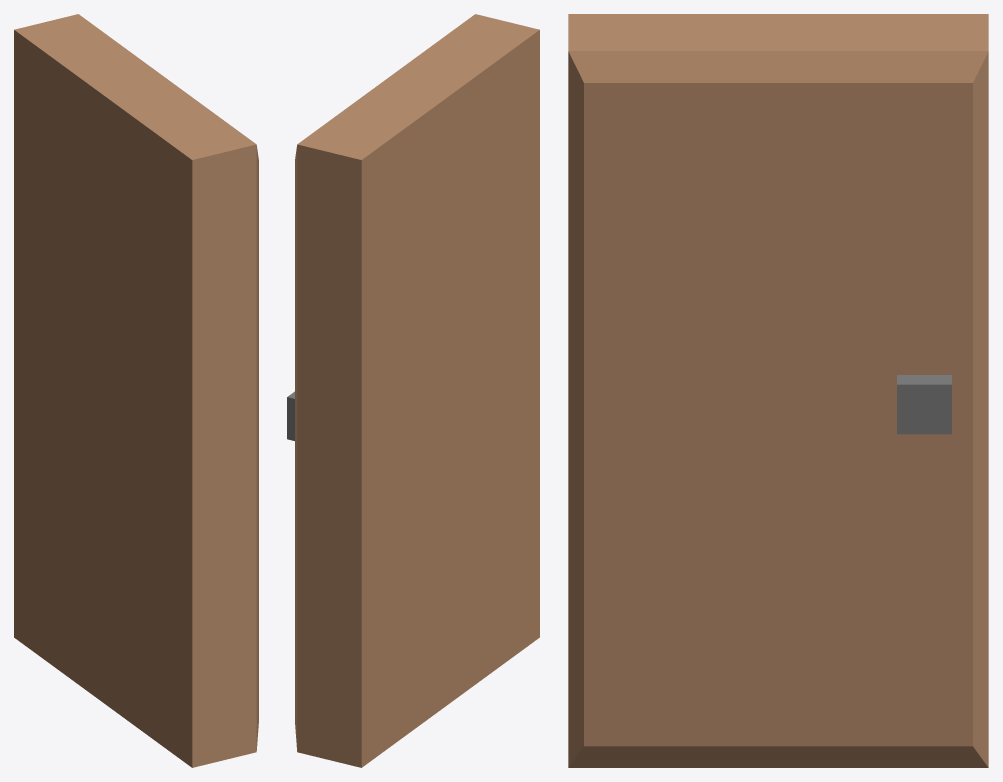
Rendered from door.fbx.
3 views of the same model, side by side, from view 1: azimuth 30°, elevation 25°; view 2: azimuth 150°, elevation 25°; view 3: azimuth 270°, elevation 25° (orthographic). The views are drawn at different scales.
Visible parts, largest first — view 1: Cube; view 2: Cube; view 3: Cube, Cube.001.
Boxes of the visible parts, <box> form: Cube: <box>14,14,258,767</box>; Cube: <box>295,14,539,767</box>; Cube: <box>568,14,988,767</box>; Cube.001: <box>897,375,951,434</box>.
Size of the model in its own units: 76.11 by 491 by 261.
